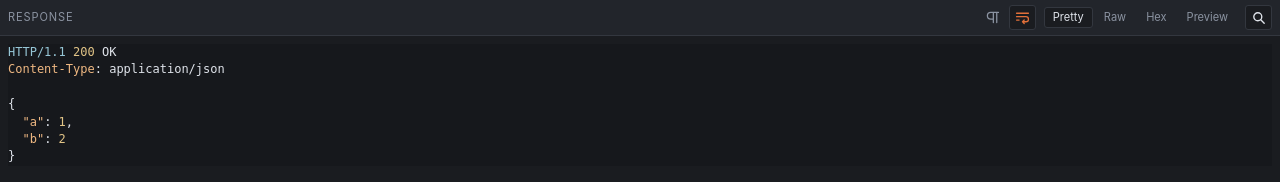
Test: preserves display choices across views while keeping the raw response intact
Click the button named "Show line endings (\\r\\n / \\n)".
click(992, 18)  # box [979, 5, 1006, 30]
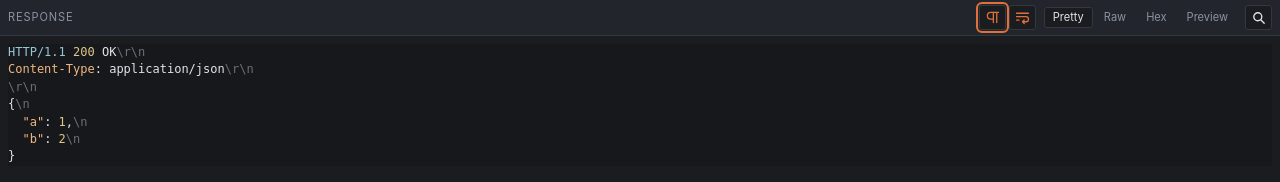
Click the button named "Wrap long lines".
click(1022, 18)  # box [1009, 5, 1036, 30]
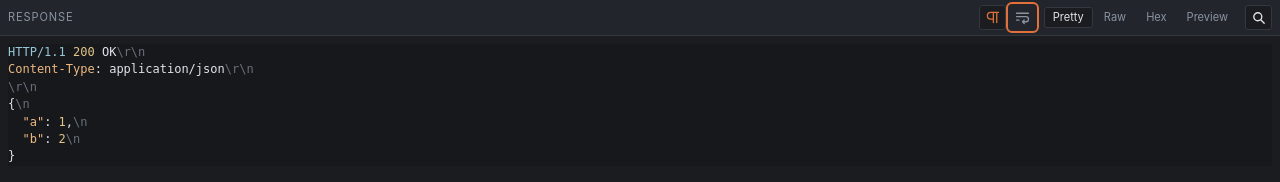
Click the tab "Raw".
click(1115, 18)  # box [1095, 7, 1135, 28]
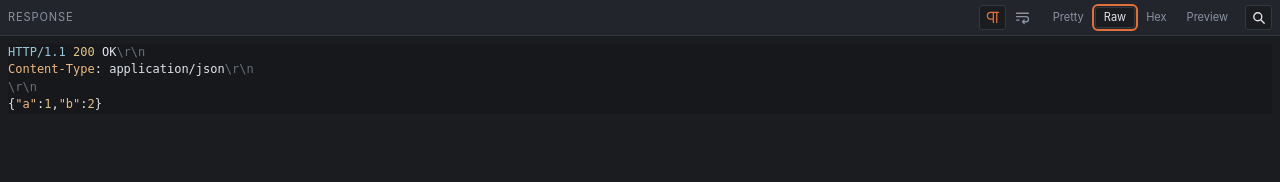
Result: the number of elements with class "code-line-ending" is 3 at [116, 45, 145, 59]; [225, 62, 254, 76]; [8, 80, 37, 94]
Click the tab "Hex".
click(1156, 18)  # box [1137, 7, 1176, 28]
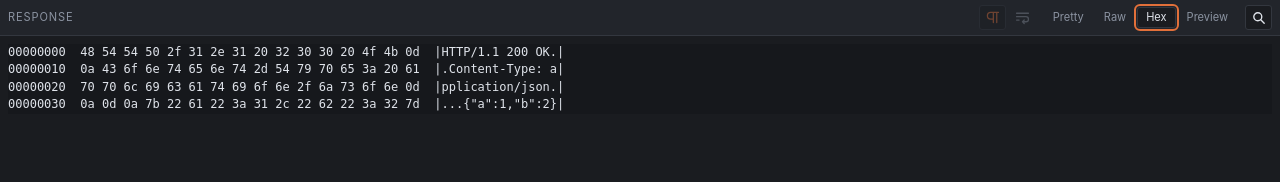
Result: the button named "Show line endings (\\r\\n / \\n)" is disabled at [979, 5, 1006, 30]
Result: the button named "Wrap long lines" is disabled at [1009, 5, 1036, 30]
Click the tab "Pretty".
click(1068, 18)  # box [1044, 7, 1093, 28]
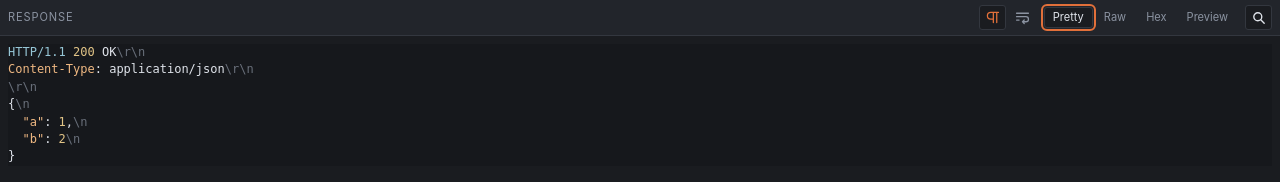
Result: the element with class "replay-response" shows "\"a\": 1"
